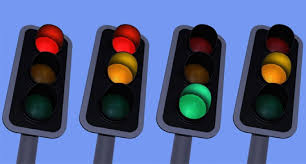red: (4, 23, 70, 139), (31, 26, 66, 133)
